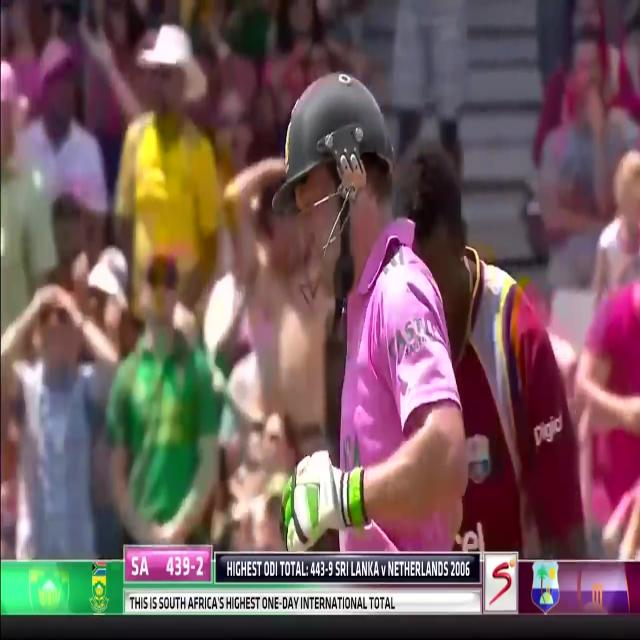Ball: (274, 79, 485, 554)
